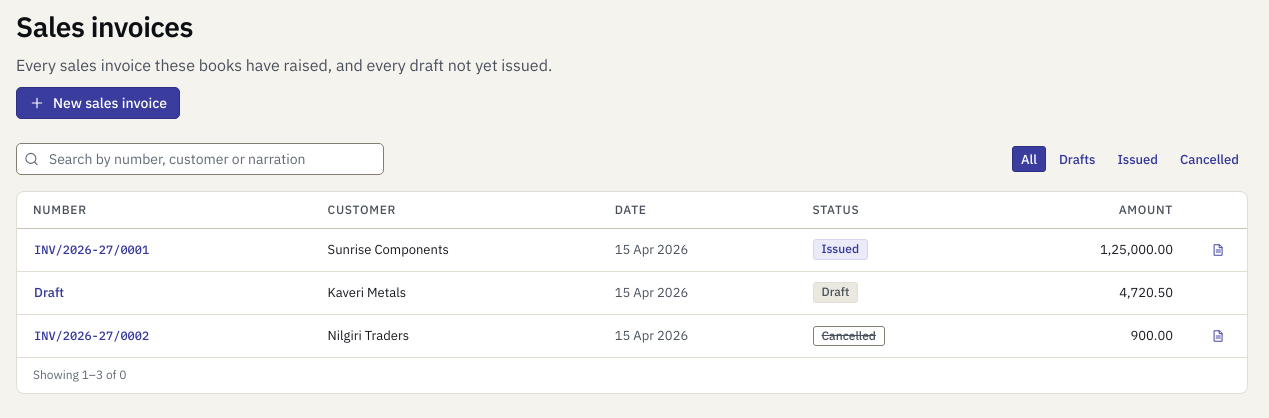
Test: what it draws › says something different when a filter is what emptied it
The image size is (1269, 418).
Expected: the text "Sunrise Components" is shown, x1=312 y1=228 x2=599 y2=271
Click the button "Cancelled": [1210, 159] box x1=1171 y1=146 x2=1248 y2=172
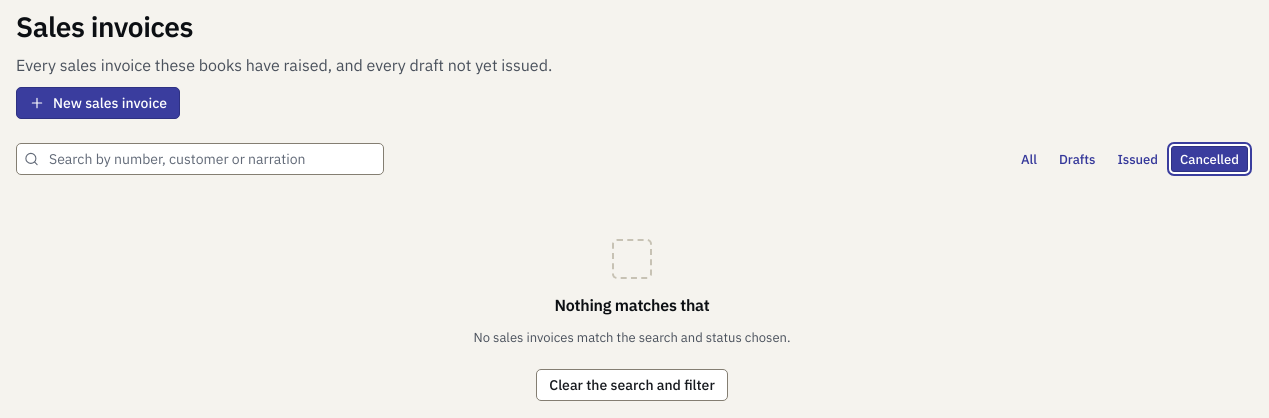
Now the heading "Nothing matches that" is shown, box x1=554 y1=295 x2=709 y2=315
